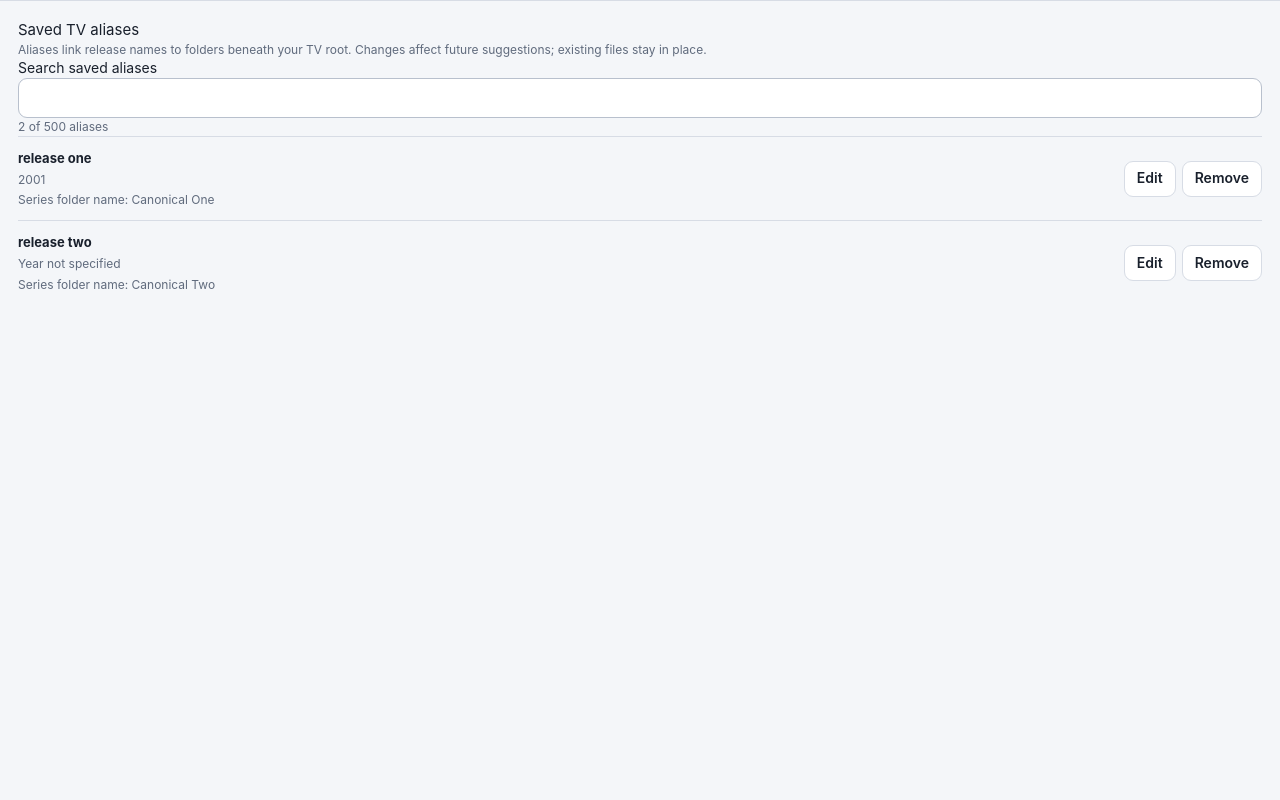
Scenario: saved TV aliases settings › rejects unsafe folder names and malformed years
This screenshot has width=1280, height=800.
Click the button "Edit" in the row of "release one".
click(1150, 179)  # box [1124,161,1176,197]
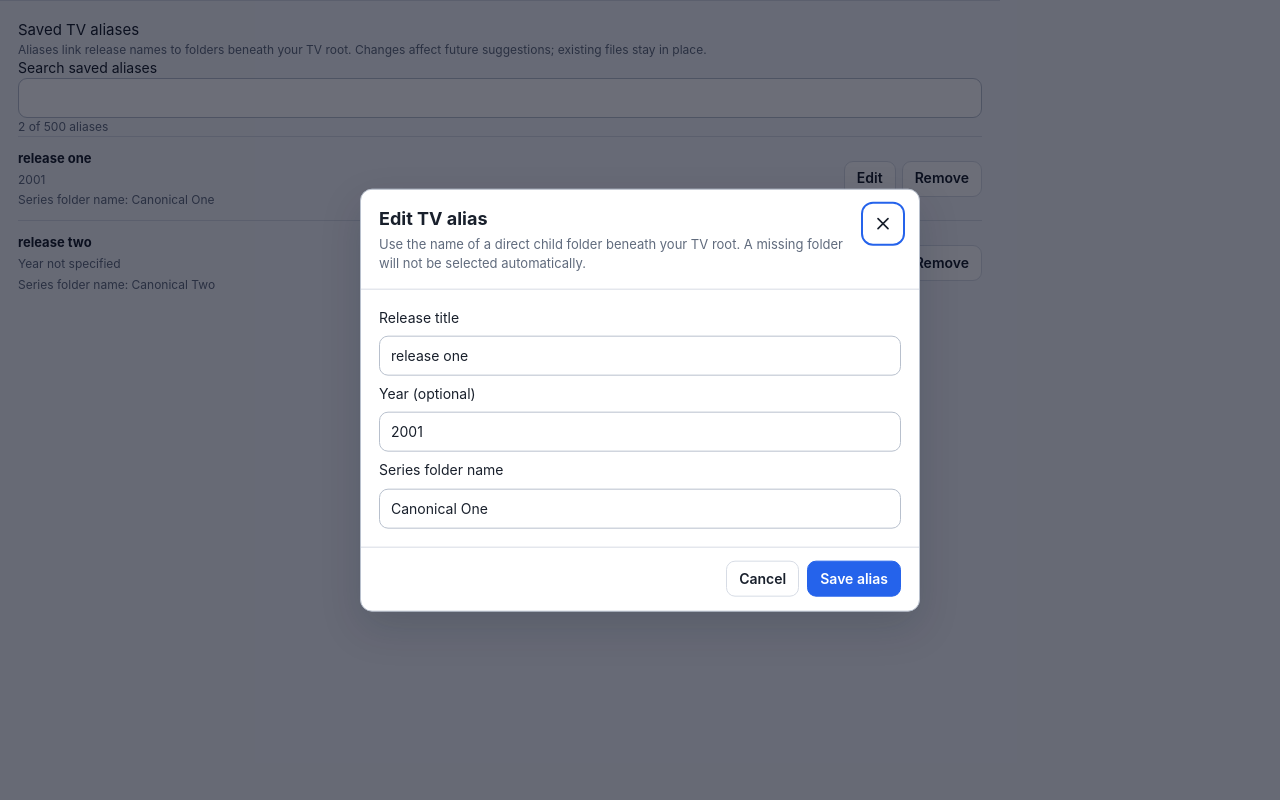
Replace the text in the field with id "tv-alias-folder" with "../outside" at [640, 508], box [379,488,901,528]
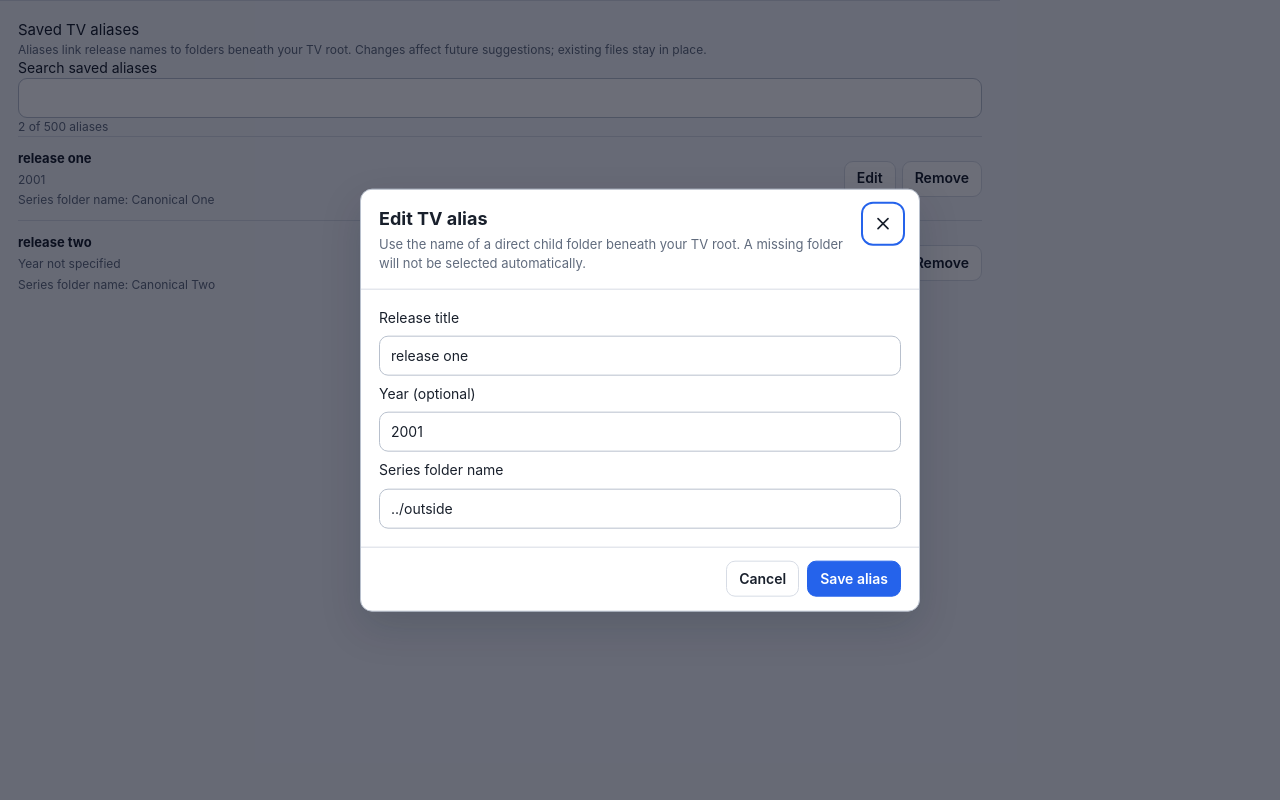
Submit the form with id "tv-alias-edit-form", box [379,307,901,528]
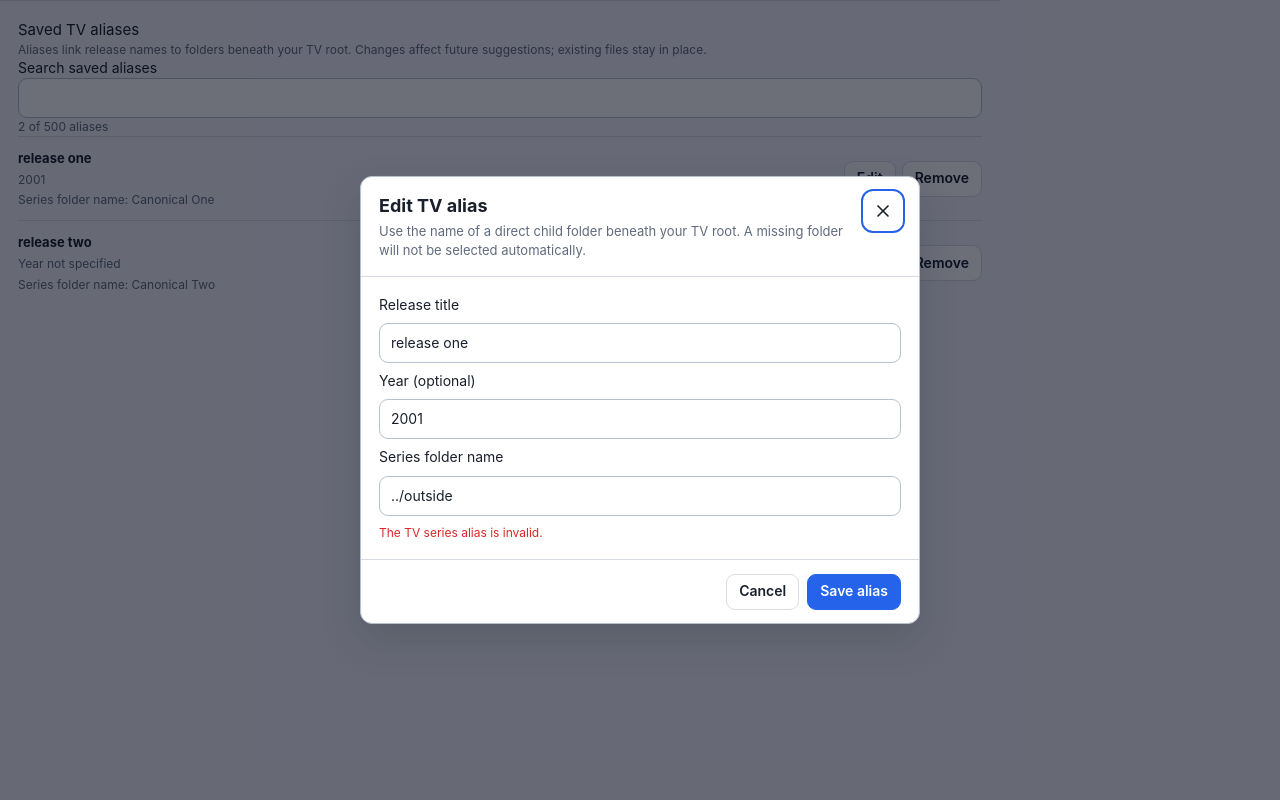
Check: the message "The TV series alias is invalid." is shown, box [379,525,543,540]
Replace the text in the field with id "tv-alias-year" with "20" at [640, 419], box [379,399,901,439]
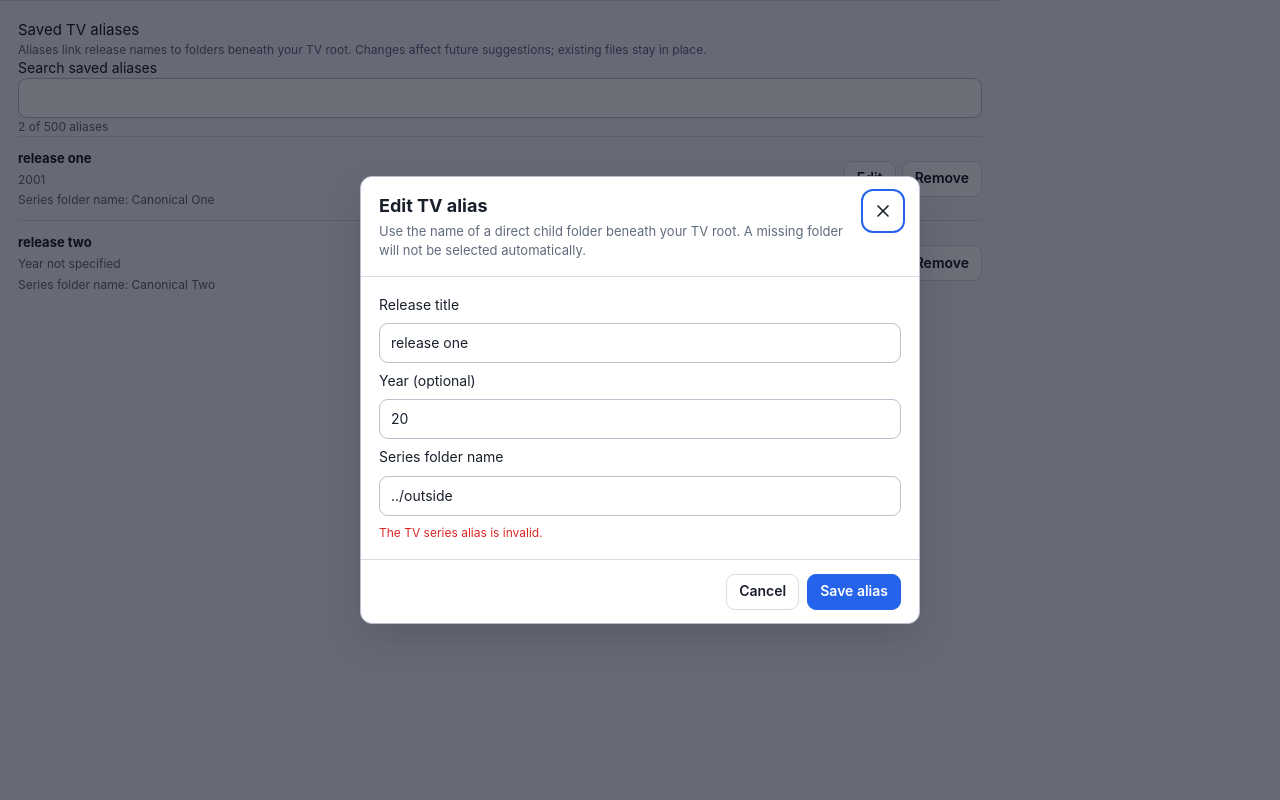
Submit the form with id "tv-alias-edit-form", box [379,295,901,541]
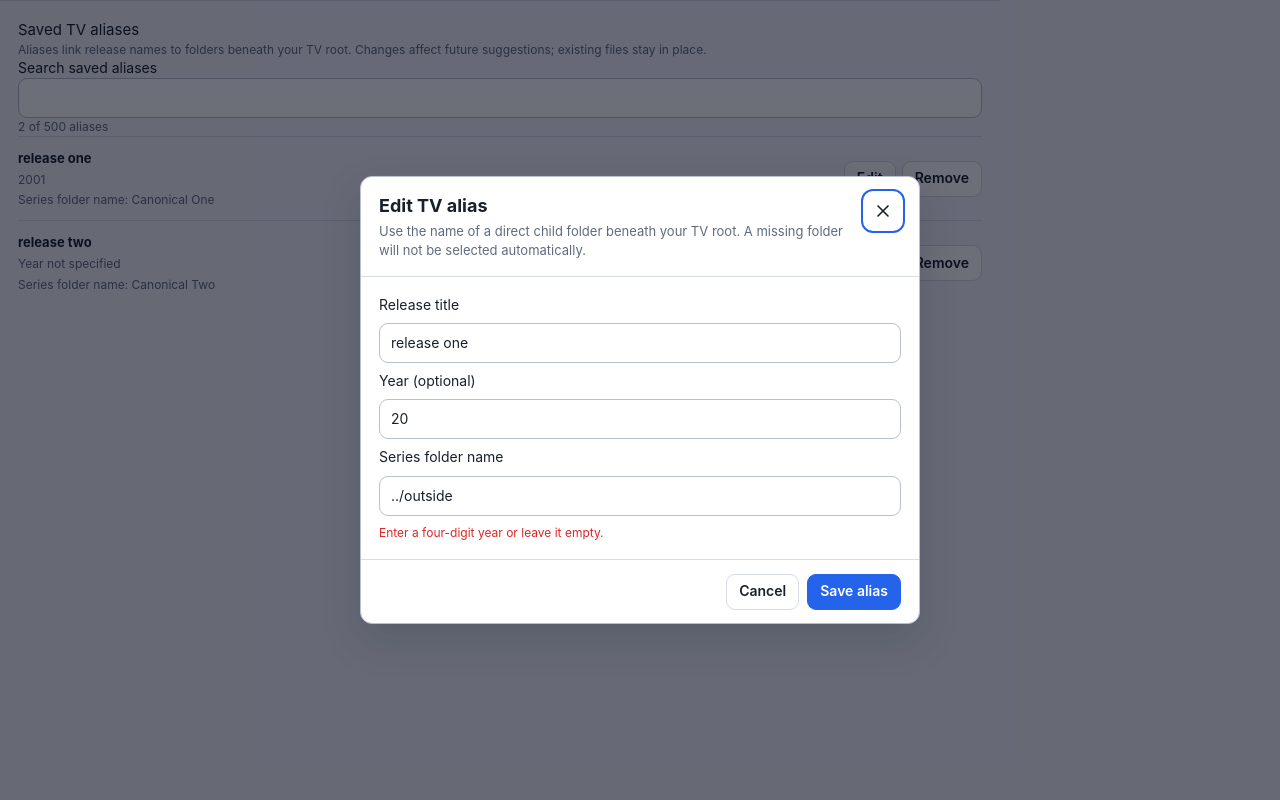
Check: the message "Enter a four-digit year or leave it empty." is shown, box [379,525,604,540]
